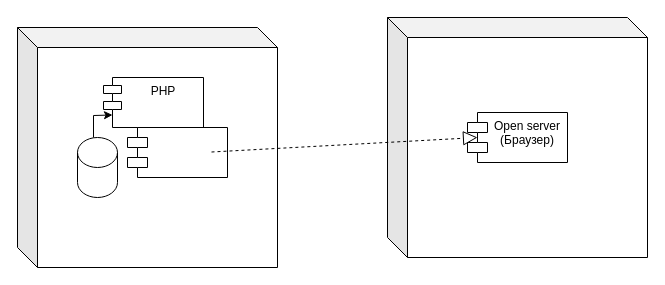
Some shapes in this 665 by 285 pixel diagram are drawn without their labels. The box of each missing label's shape, as (x1, y1, x2, y2) in pixels:
JS + HTML+CSS: (126, 126, 228, 178)
БД: (76, 136, 118, 198)
